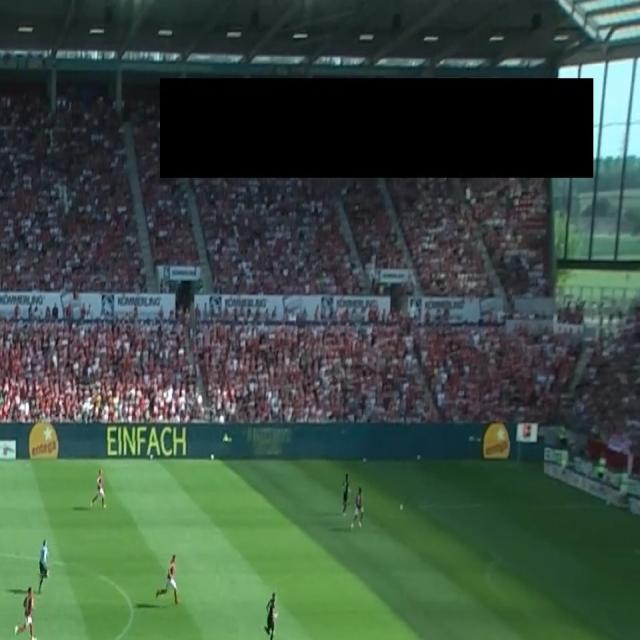ball: (399, 503, 404, 511)
